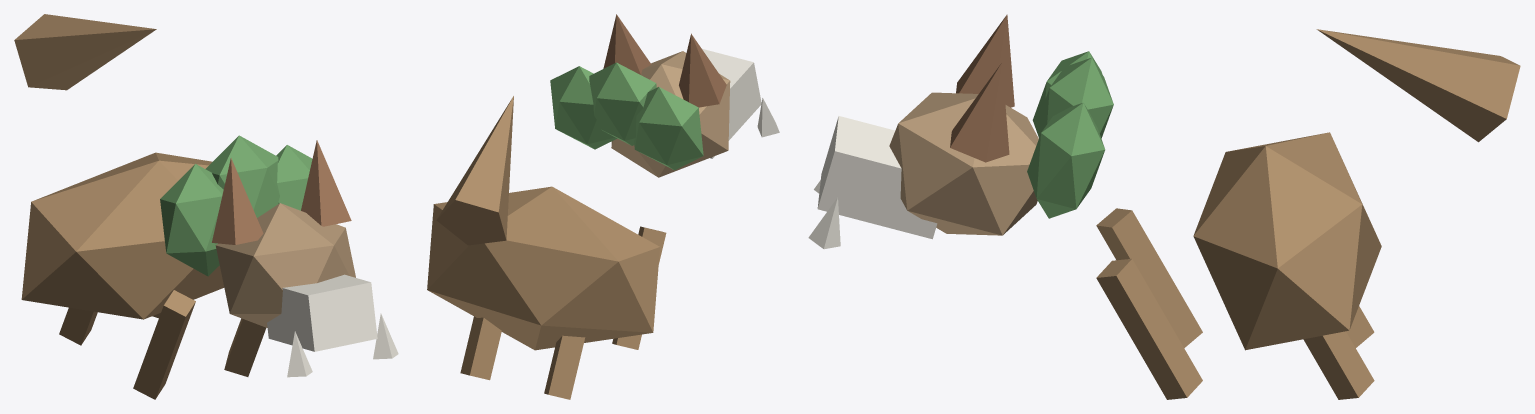
File: npcpose_wolf_attack_05.glb
The picture shows the model from 3 angles, left to right: view 1: azimuth 30°, elevation 25°; view 2: azimuth 150°, elevation 25°; view 3: azimuth 270°, elevation 25°; orthographic projection. The views are drawn at different scales.
Parts seen in each view (by area): view 1: npcpose; view 2: npcpose; view 3: npcpose.
Part boxes in pixels (x1,y1,x2,y2): npcpose: (14,14,398,399); npcpose: (427,14,779,399); npcpose: (808,14,1520,399).
Size of the model in its own units: 0.8873 by 1.05 by 1.91.
